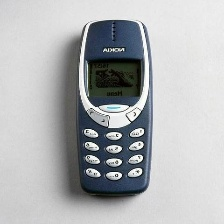phone: (71, 13, 158, 199)
